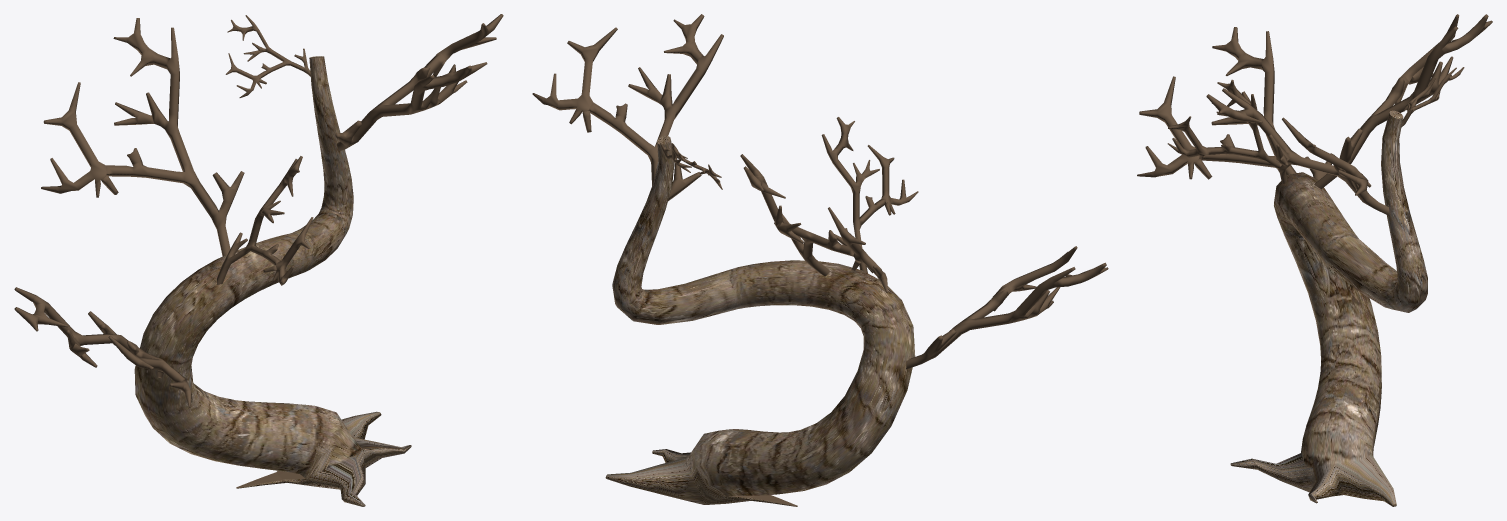
Rendered from bonsai.glb.
3 views of the same model, side by side, from view 1: azimuth 30°, elevation 25°; view 2: azimuth 150°, elevation 25°; view 3: azimuth 270°, elevation 25° (orthographic). The views are drawn at different scales.
Visible parts, largest first — view 1: BezierCurve; view 2: BezierCurve; view 3: BezierCurve.
Boxes of the visible parts, left/top/right/bottom form: BezierCurve: left=14, top=14, right=503, bottom=506; BezierCurve: left=532, top=14, right=1108, bottom=506; BezierCurve: left=1137, top=14, right=1492, bottom=506.
Bounding box in the file's own units: 4.11 × 3.16 × 2.39.
Materials: 1 (1 with a texture image).
